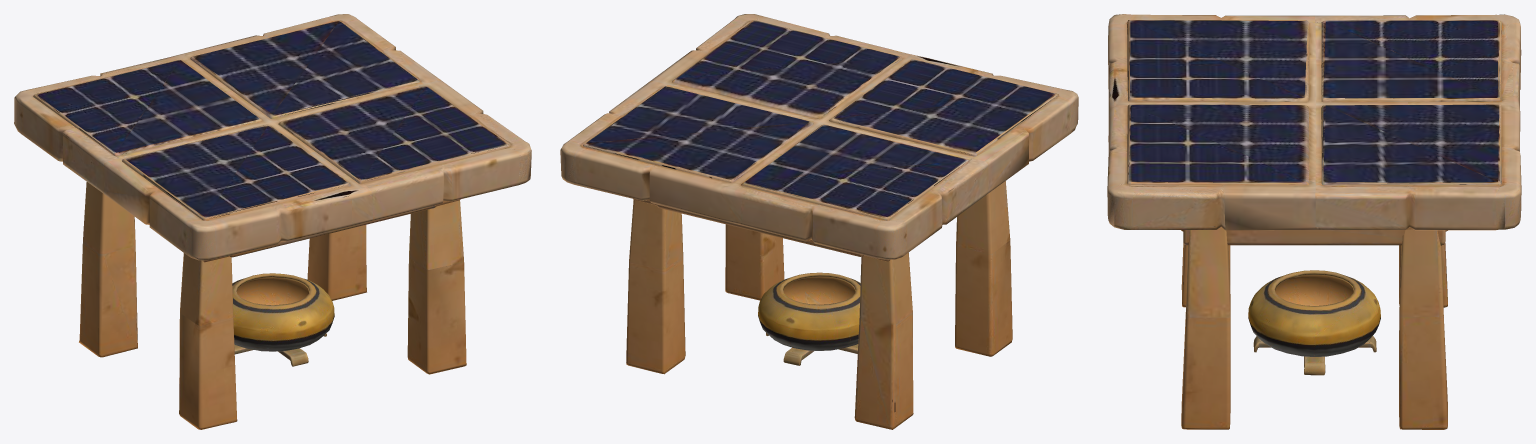
File: large-solar-array.glb
3 views of the same model, side by side, from view 1: azimuth 30°, elevation 25°; view 2: azimuth 150°, elevation 25°; view 3: azimuth 270°, elevation 25° (orthographic). The views are drawn at different scales.
Visible parts, largest first — view 1: large-solar-array; view 2: large-solar-array; view 3: large-solar-array.
Part boxes in pixels (x1,y1,x2,y2): large-solar-array: (14, 14, 531, 429); large-solar-array: (560, 14, 1078, 429); large-solar-array: (1107, 14, 1521, 429).
Size of the model in its own units: 2.2 by 1.47 by 2.14.
Materials: 1 (1 with a texture image).
